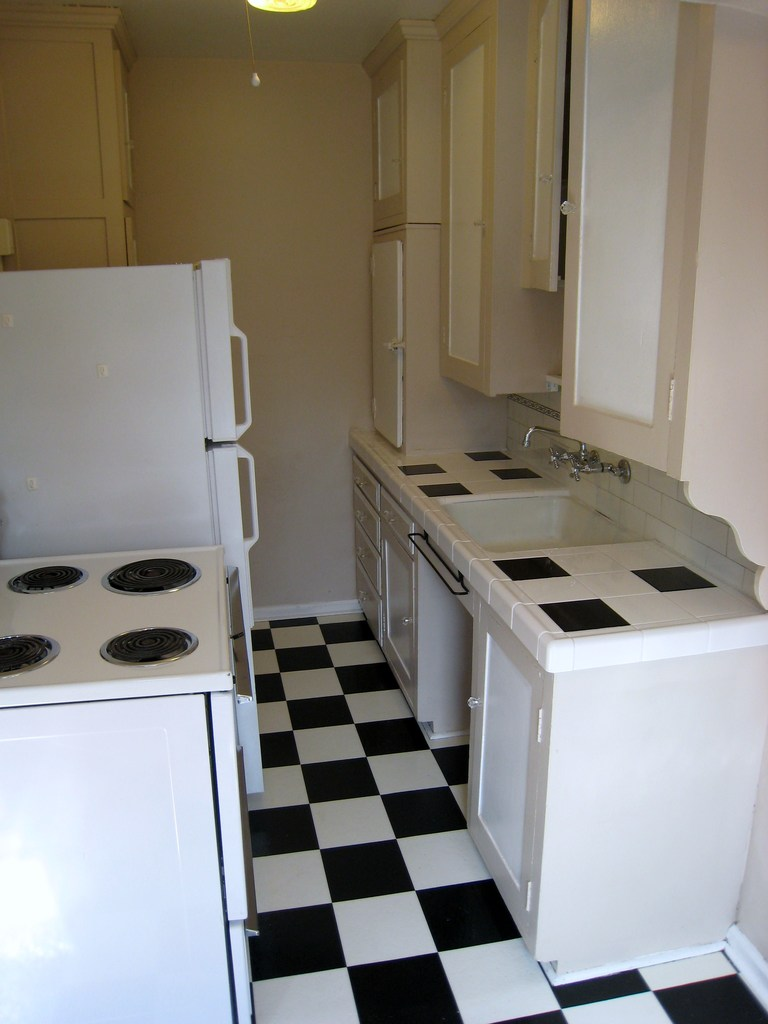cabinet door: (580, 10, 664, 439), (478, 639, 534, 880), (445, 53, 487, 368), (369, 249, 404, 434), (381, 513, 414, 671), (373, 81, 407, 222), (356, 533, 378, 576), (359, 585, 376, 630), (388, 503, 408, 535), (357, 498, 377, 528), (353, 468, 375, 492)
handle: (235, 444, 263, 566), (228, 323, 254, 439), (565, 196, 577, 228)
refrigerator door: (198, 274, 240, 428), (221, 458, 257, 585)
